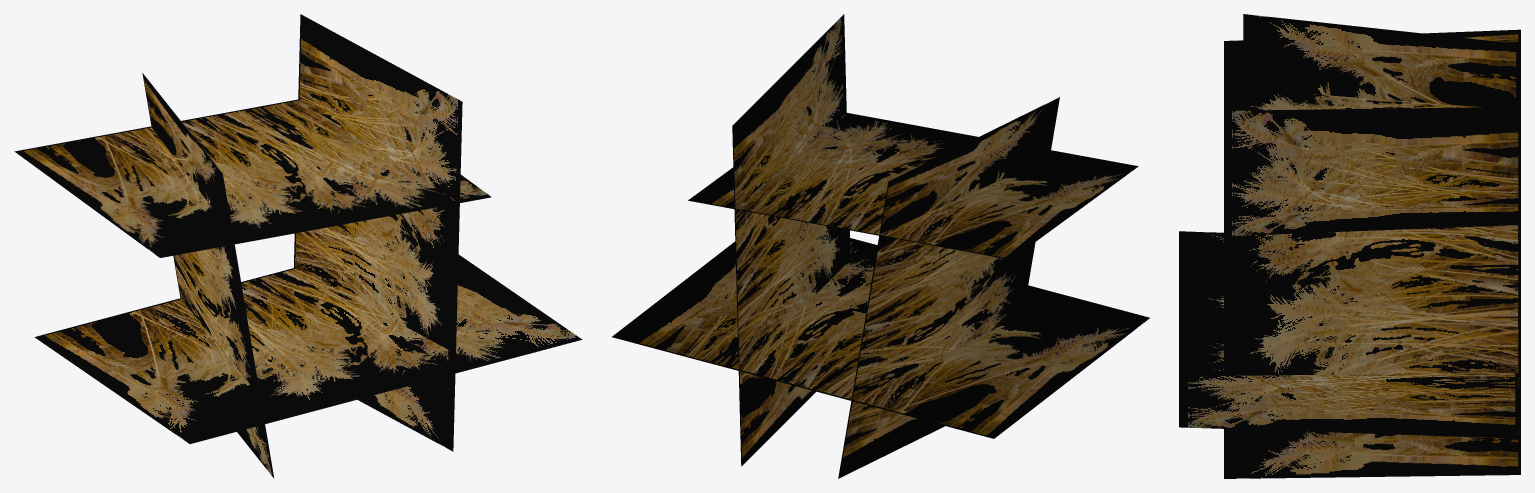
The model's file is wheat_up.glb.
The picture shows the model from 3 angles, left to right: view 1: azimuth 30°, elevation 25°; view 2: azimuth 150°, elevation 25°; view 3: azimuth 270°, elevation 25°; orthographic projection. The views are drawn at different scales.
Visible parts, largest first — view 1: Cube; view 2: Cube; view 3: Cube.
Boxes of the visible parts, <box> form: Cube: <box>14,14,582,478</box>; Cube: <box>612,14,1149,478</box>; Cube: <box>1179,14,1520,478</box>.
Size of the model in its own units: 5.95 by 4.91 by 3.99.
1 material, 1 textured.
